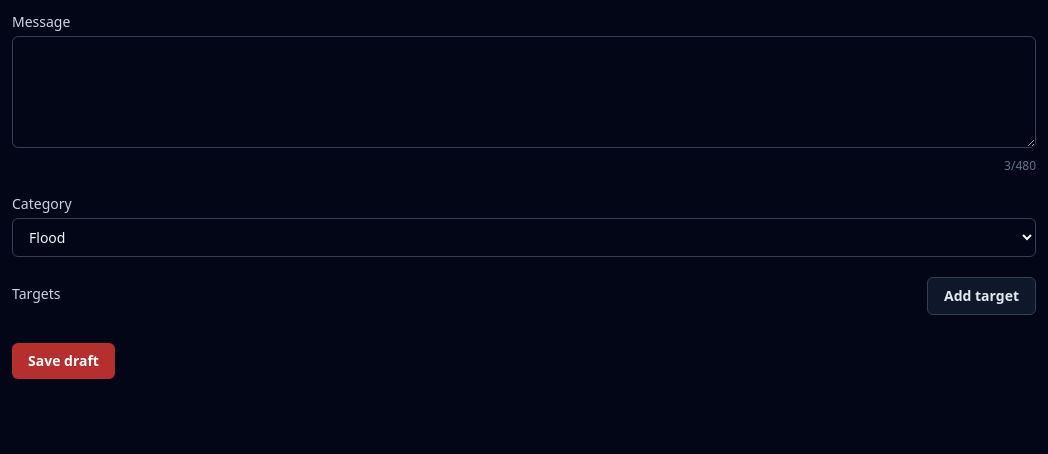
Test case: AlertForm › blocks submission for empty content or targets
Click the button "Save draft". click: (64, 361)
box: left=12, top=343, right=115, bottom=379
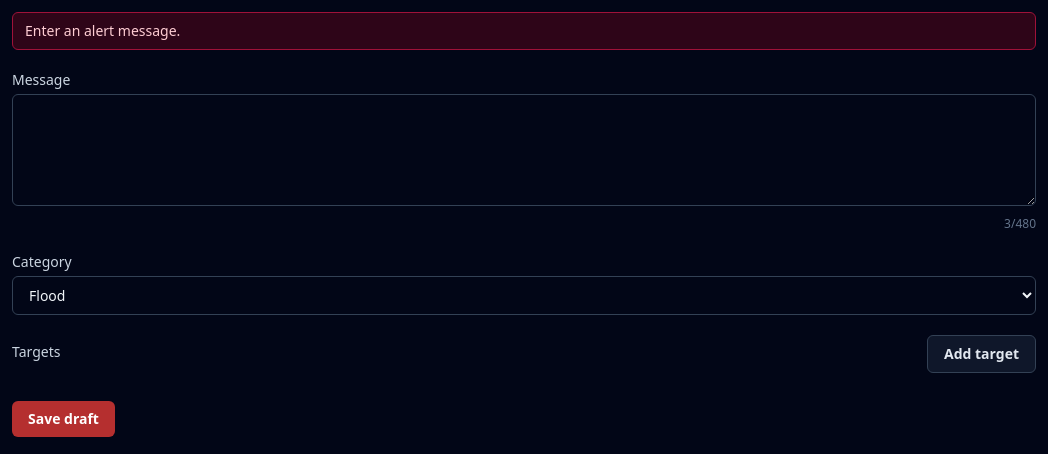
Expected: the text "Enter an alert message." is shown, left=12, top=12, right=1036, bottom=50
Type "Valid message" into the text box labelled "Message". click: (524, 150)
box: left=12, top=94, right=1036, bottom=206
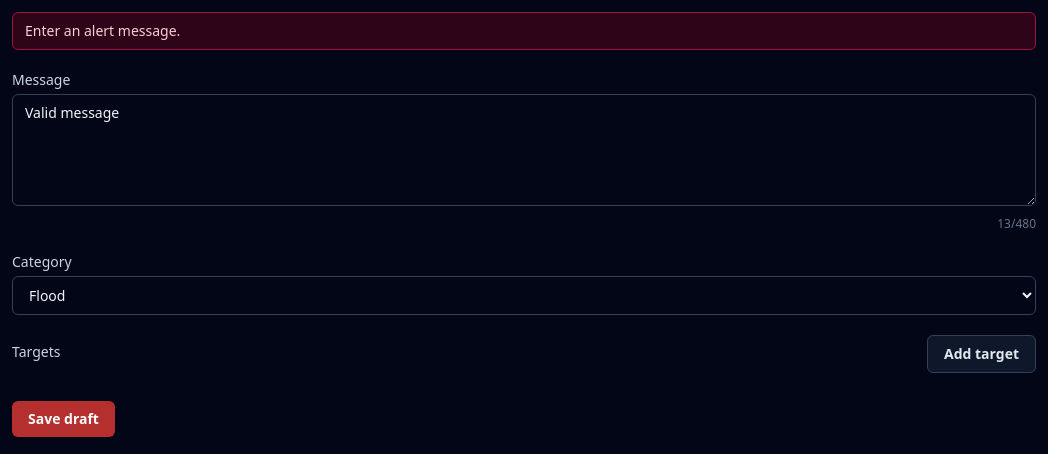
Click the button "Save draft". click: (64, 419)
box: left=12, top=401, right=115, bottom=437
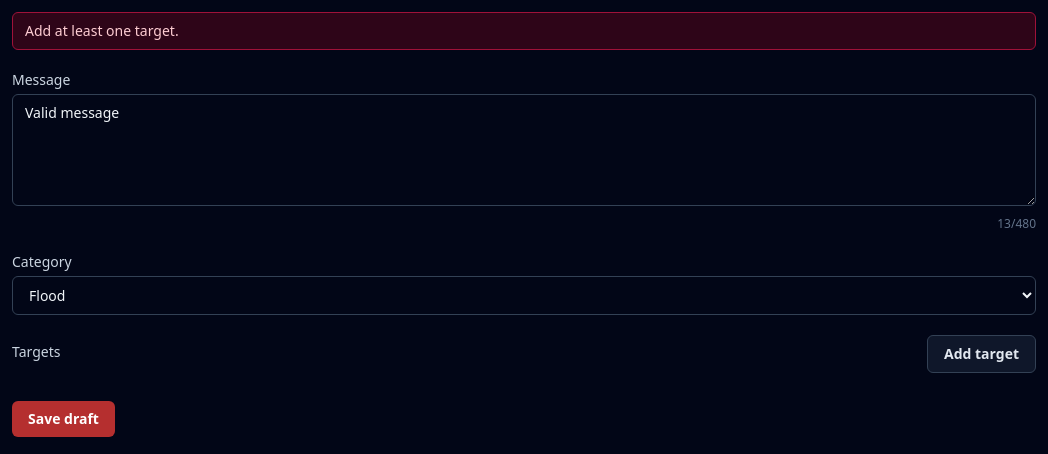
Expected: the text "Add at least one target." is shown, left=12, top=12, right=1036, bottom=50
